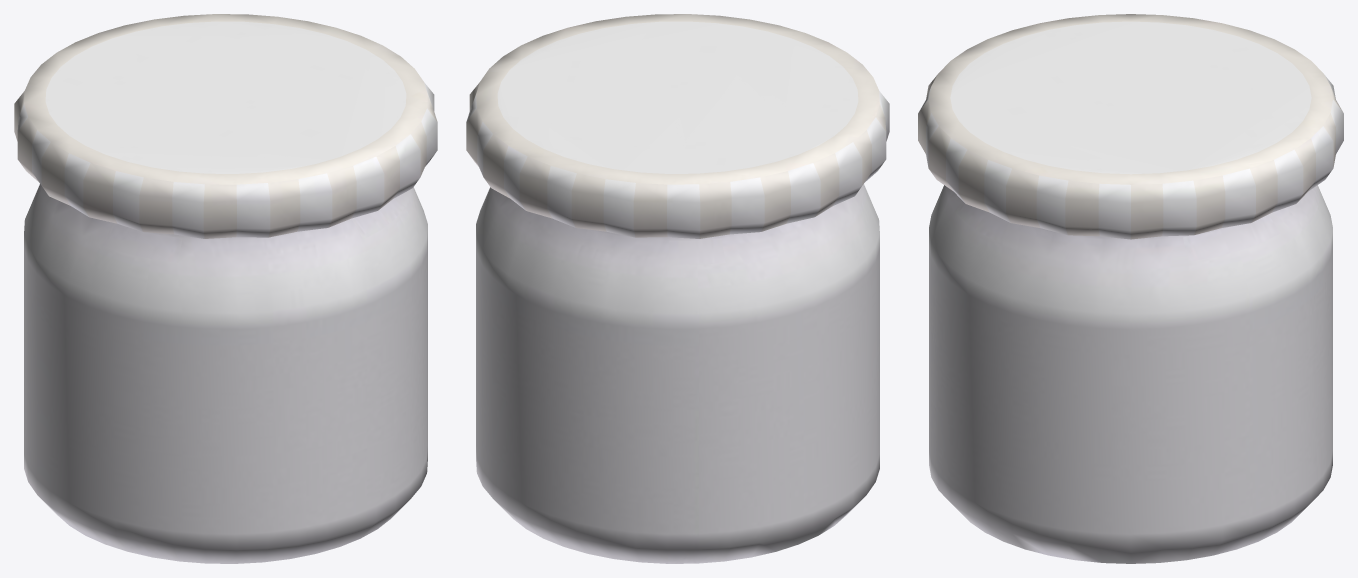
File: kav2_1.glb
3 renders of one model, left to right at view 1: azimuth 30°, elevation 25°; view 2: azimuth 150°, elevation 25°; view 3: azimuth 270°, elevation 25°, orthographic.
Parts seen in each view (by area): view 1: kav2_1; view 2: kav2_1; view 3: kav2_1.
Part boxes in pixels (left/top/right/bottom): kav2_1: left=14, top=14, right=437, bottom=563; kav2_1: left=466, top=14, right=889, bottom=563; kav2_1: left=918, top=14, right=1343, bottom=563.
Bounding box in the file's own units: 1.53 × 1.55 × 1.53.
1 material, 1 textured.
